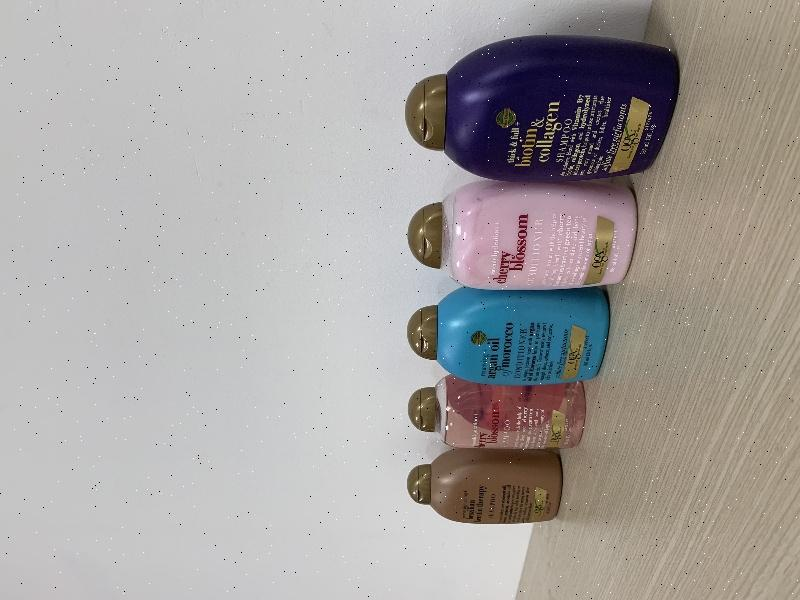ArganOilOfMorocco_Conditioner: (407, 290, 610, 386)
BiotinCollagen_Shampoo: (404, 35, 680, 183)
BrazilianKeratinTherapy_Shampoo: (407, 449, 563, 524)
CherryBlossom_Conditioner: (408, 183, 638, 290)
CherryBlossom_Shampoo: (408, 386, 586, 449)
